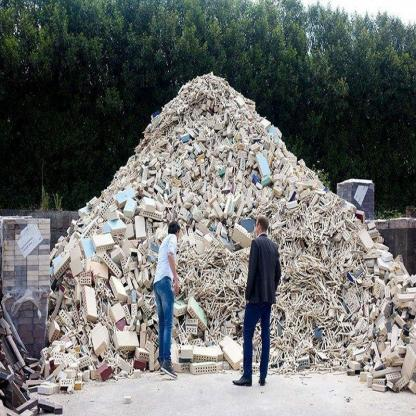brick: (1, 75, 415, 414)
